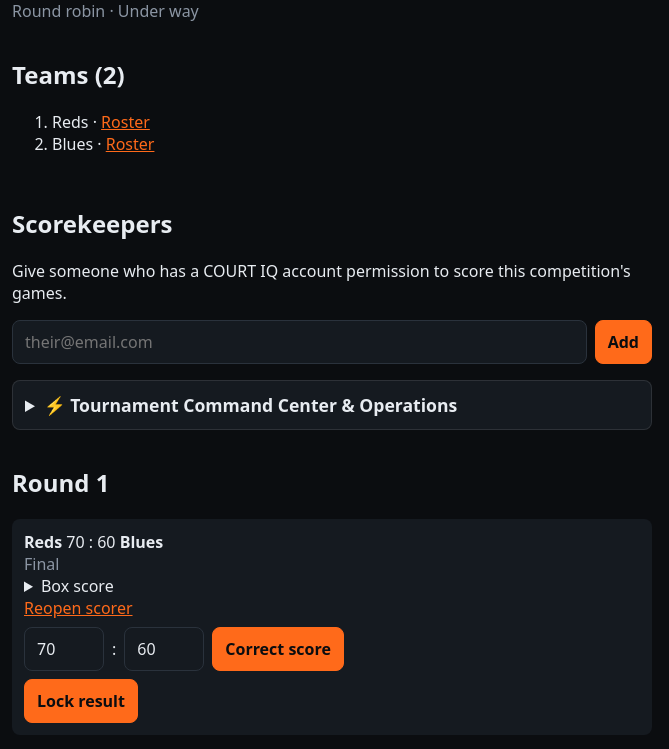
Test: CompetitionPanel match administration › shows server refusals in plain language
(page scrolled)
Replace the text in the number field named "Away score" with "80" at (164, 649), box top-left (124, 627), bottom-right (204, 671)
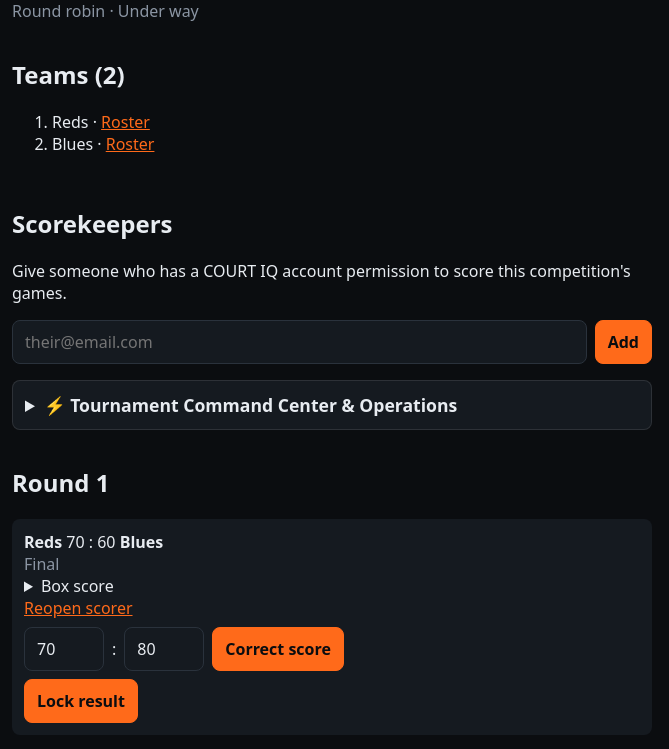
Click the button "Correct score" at (278, 649), box top-left (212, 627), bottom-right (344, 671)
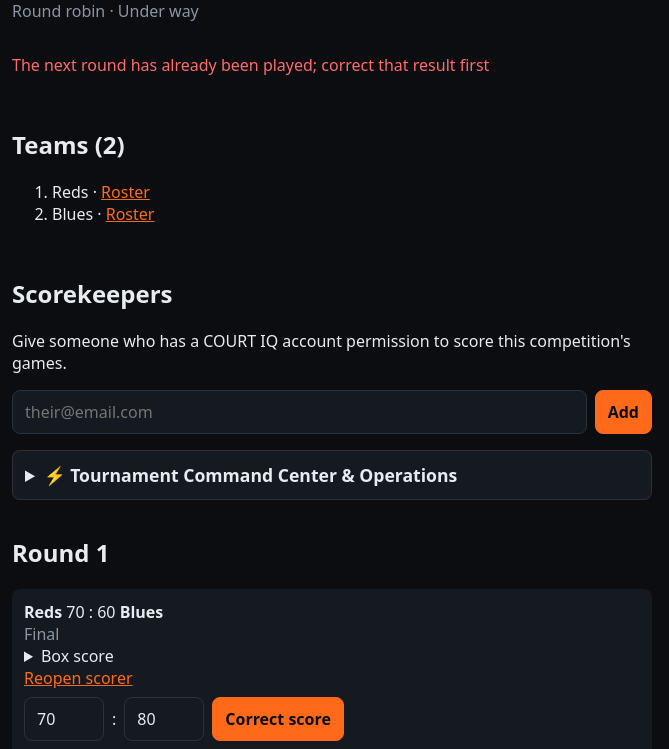
Check: the message shows "next round has already been played", box top-left (12, 54), bottom-right (489, 76)
